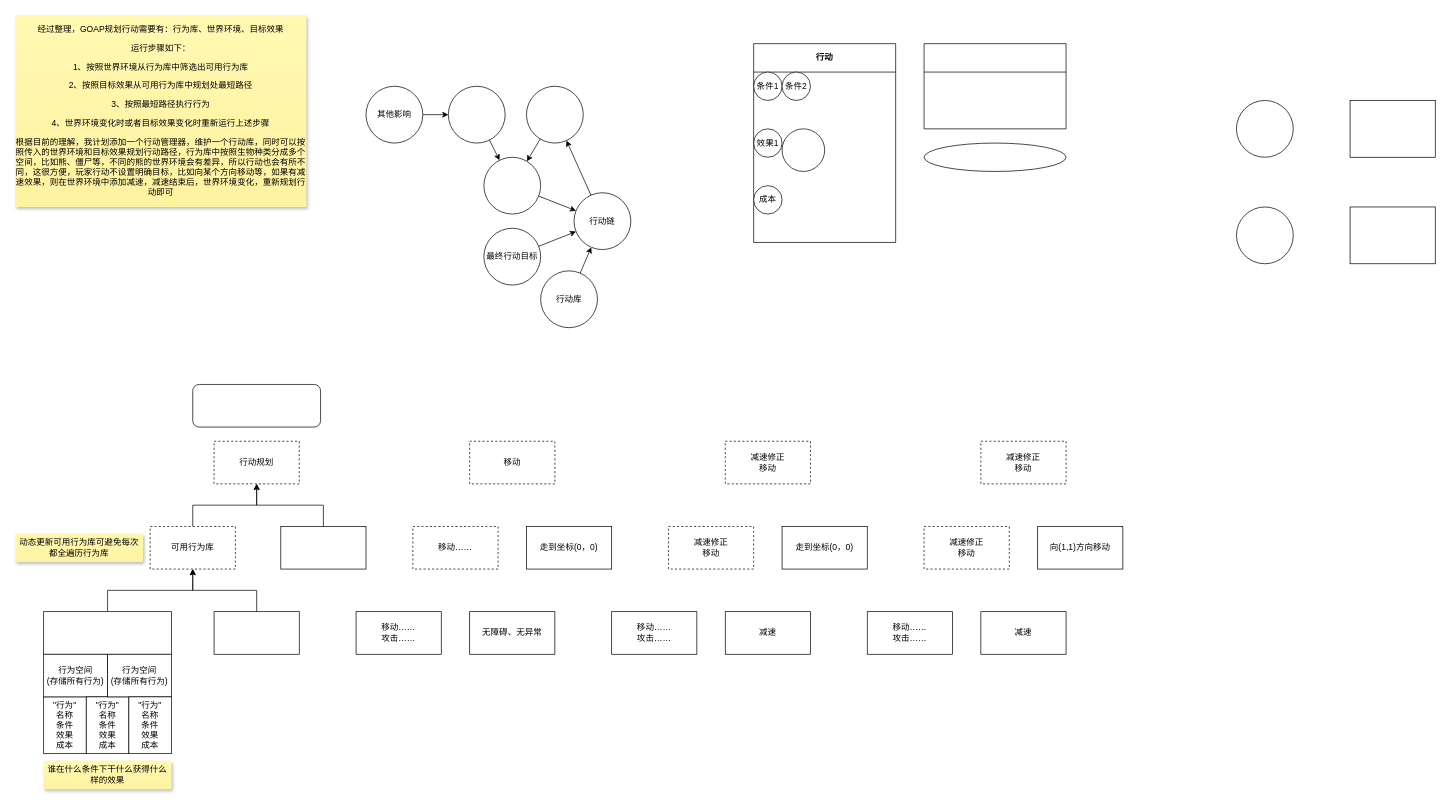
The diagram is 1448 pixels wide and 806 high, and some of its shapes have lost their labels. The shapes that lost their labels are listed below. From the top down, each one's centre as x and y in pixels, then its label:
the point at 994,86: 环境状态
the point at 476,114: 全局世界状态
the point at 554,114: 私有世界状态
the point at 803,149: 环境状态 Callable
the point at 994,156: Callable -> bool
the point at 512,185: 当前世界状态
the point at 256,405: 规划器 (传递世界环境和目标效果)
the point at 323,547: 目标效果
the point at 107,632: 行为库 (分多个行为空间)
the point at 256,632: 世界环境
